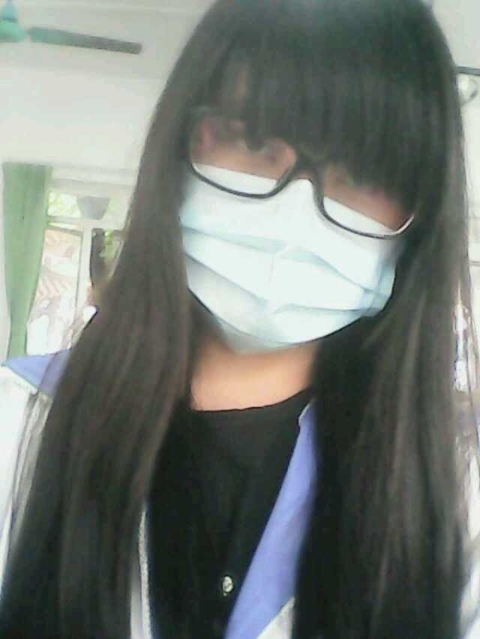face_mask: (191, 56, 410, 359)
